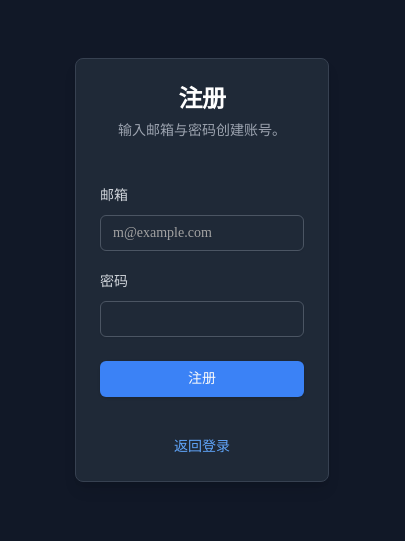
Test: Register Page › displays validation errors if password and email are invalid
The image size is (405, 541).
In the field labelled "邮箱": (202, 233) [100, 215, 304, 251], type "email@email.com"
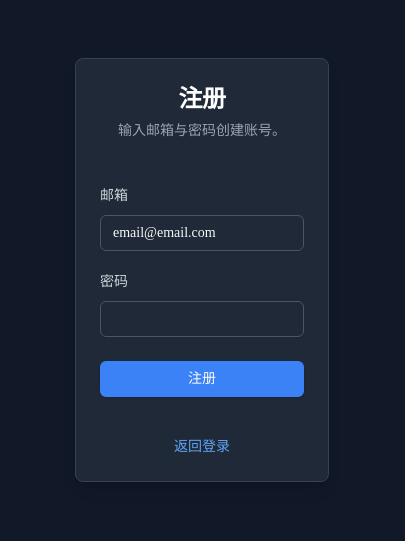
In the password field labelled "密码": (202, 319) [100, 301, 304, 337], type "invalid_password"
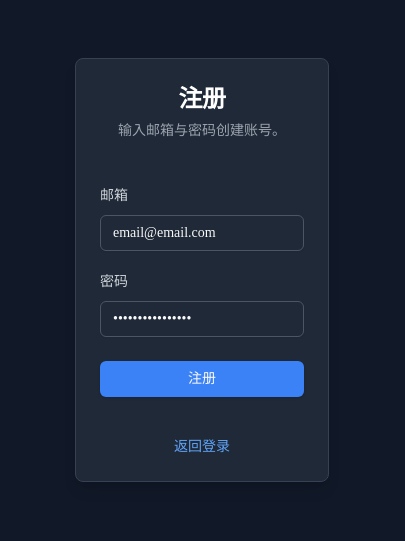
Click the button "注册": (202, 379) [100, 361, 304, 397]
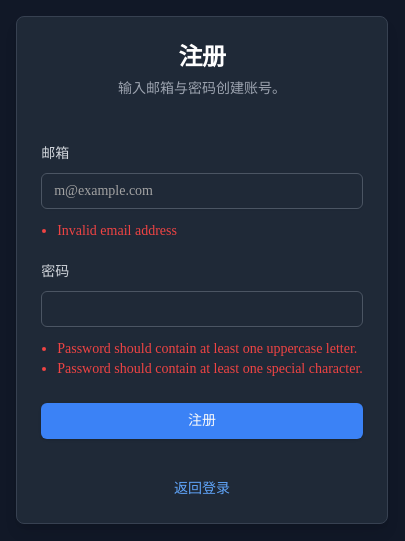
Expected: the list item "Password should contain at least one uppercase letter." is shown, [57, 339, 363, 359]
Expected: the list item "Password should contain at least one special character." is shown, [57, 359, 363, 379]
Expected: the list item "Invalid email address" is shown, [57, 223, 177, 238]
